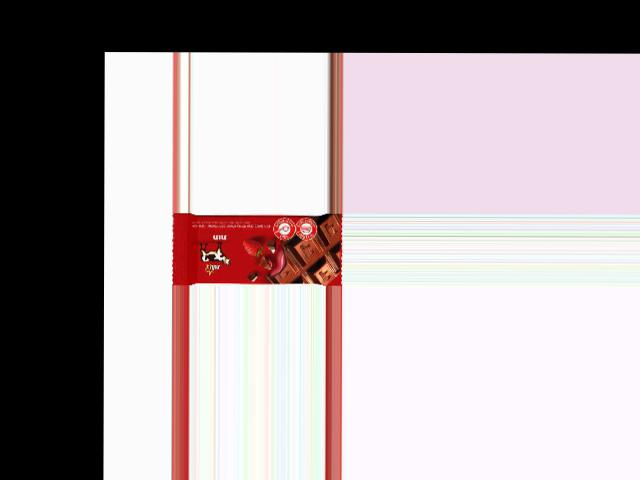chocolate: (171, 212, 340, 284)
